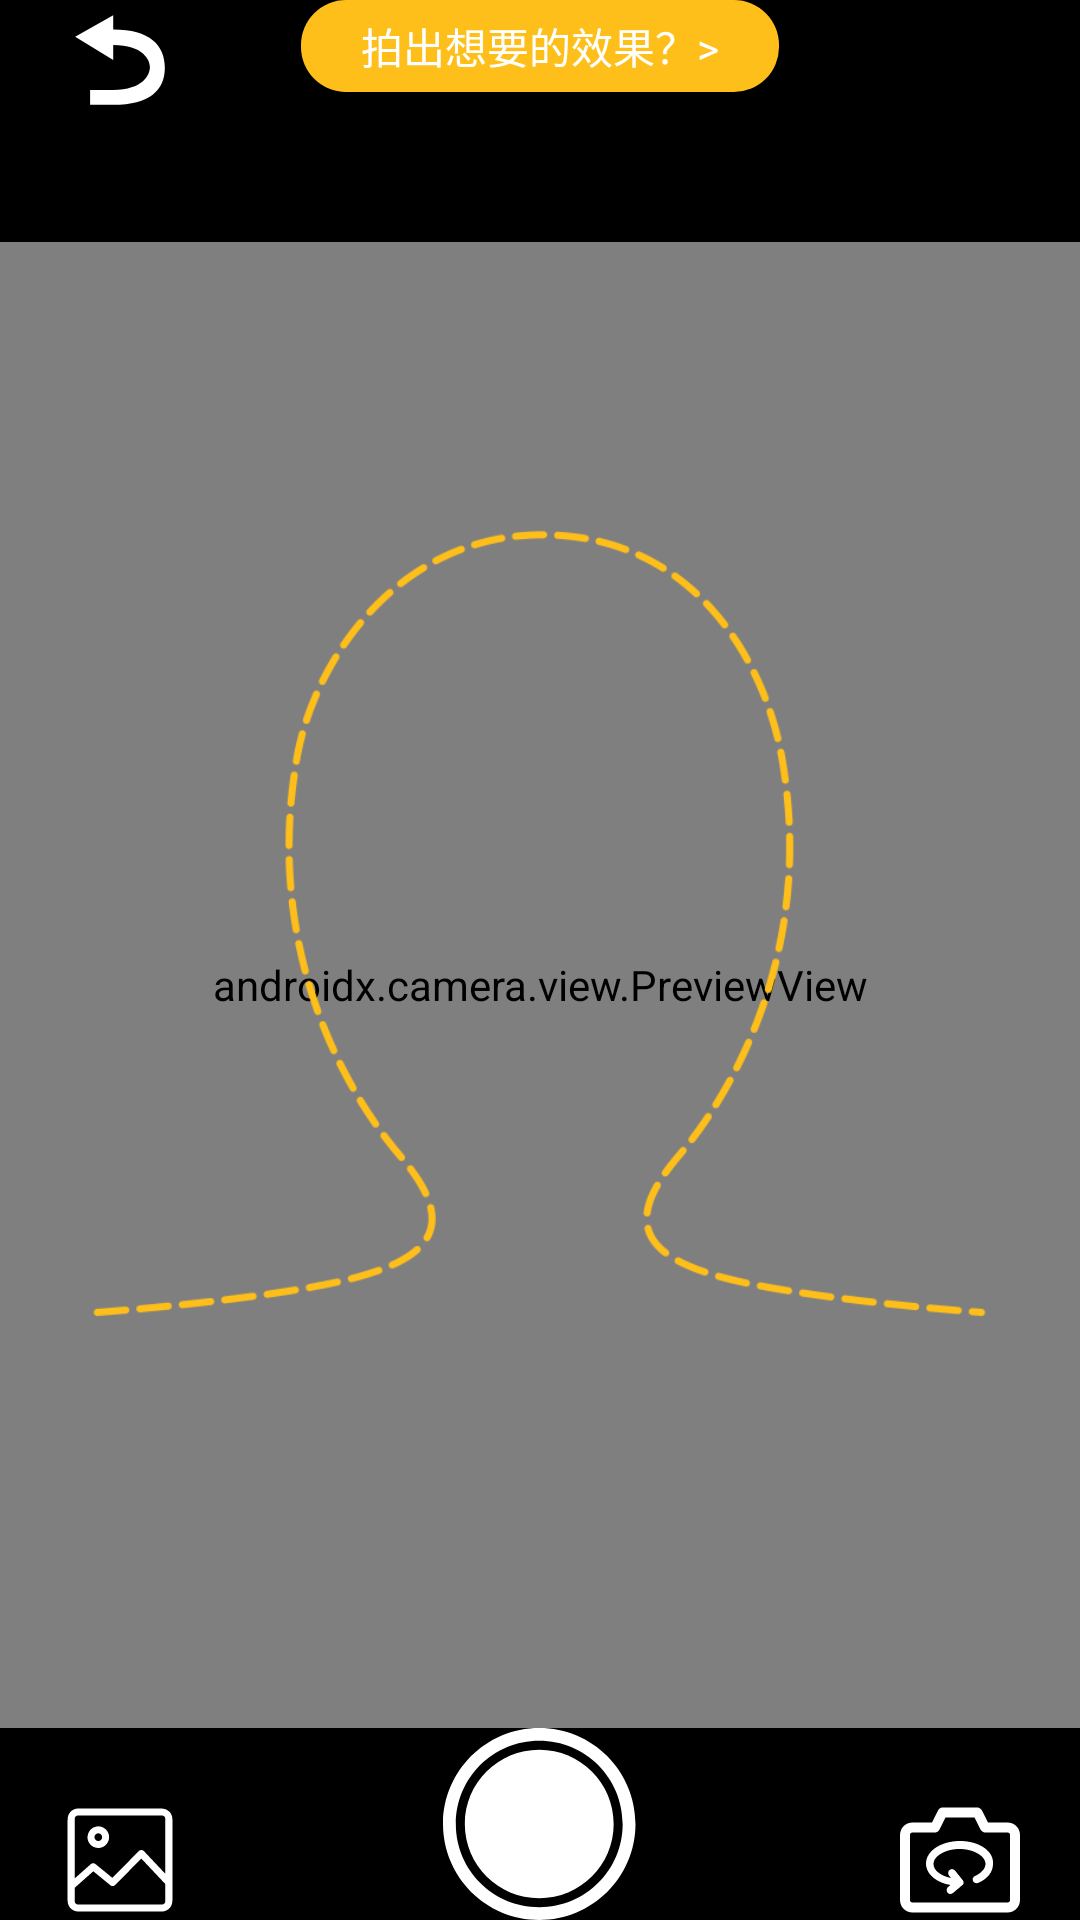

Named icons in this screenshot (1080 x 1920) and their bounding boxes, (x1, y1, x2, y2):
album: (67, 1808, 173, 1912)
back: (75, 15, 165, 105)
camera turn: (900, 1807, 1020, 1913)
take photo: (464, 1749, 614, 1899)
